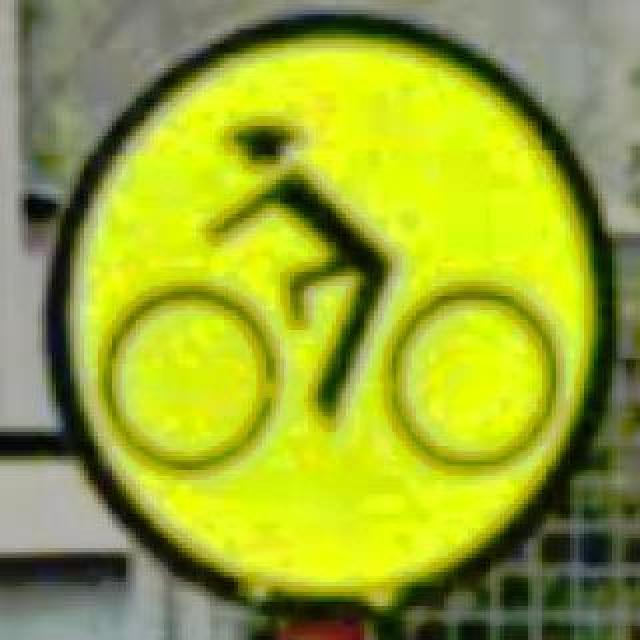bike lane: (38, 10, 622, 610)
